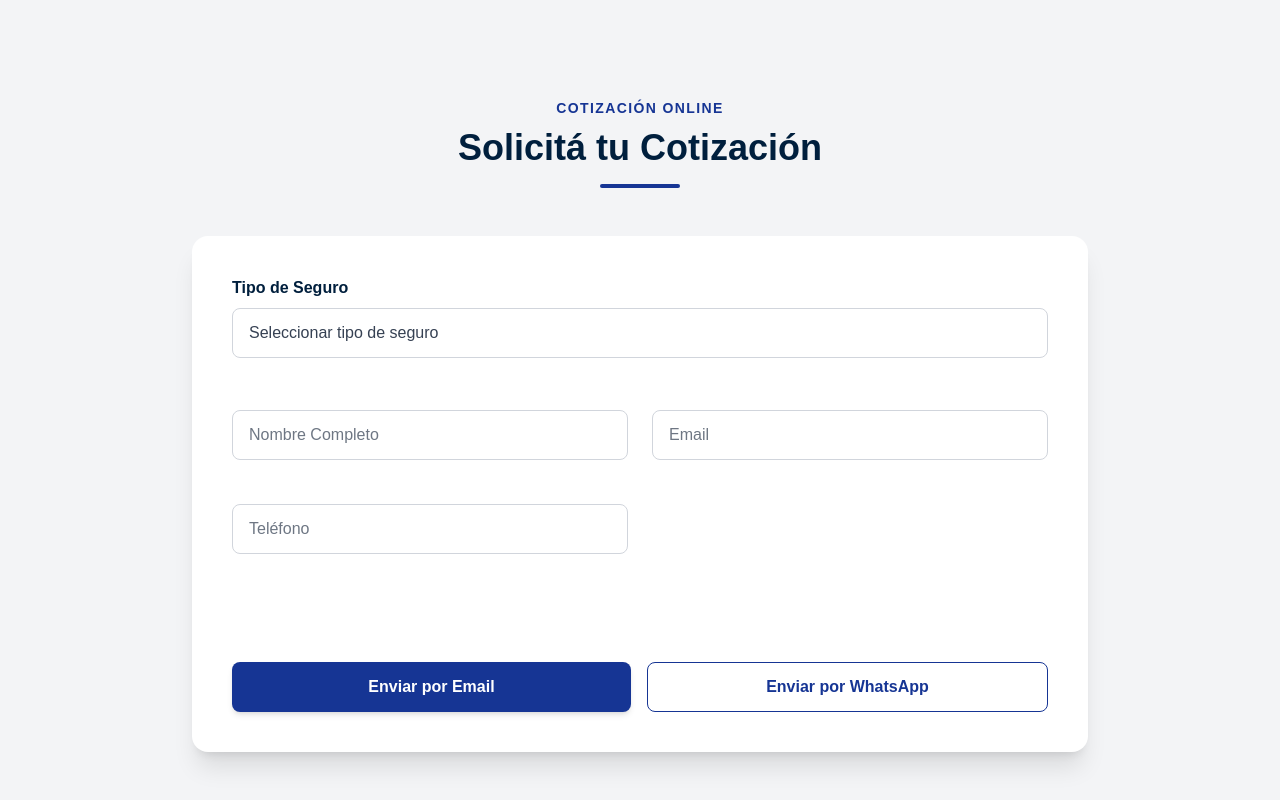
Formulario de Cotización Completo › Validaciones de campos dinámicos según tipo de seguro › Validaciones para Seguro de Vida › No permite enviar si la edad es menor a 18
Select "Vida" in the dropdown named "tipo de seguro" at (640, 333), box [232, 308, 1048, 358]
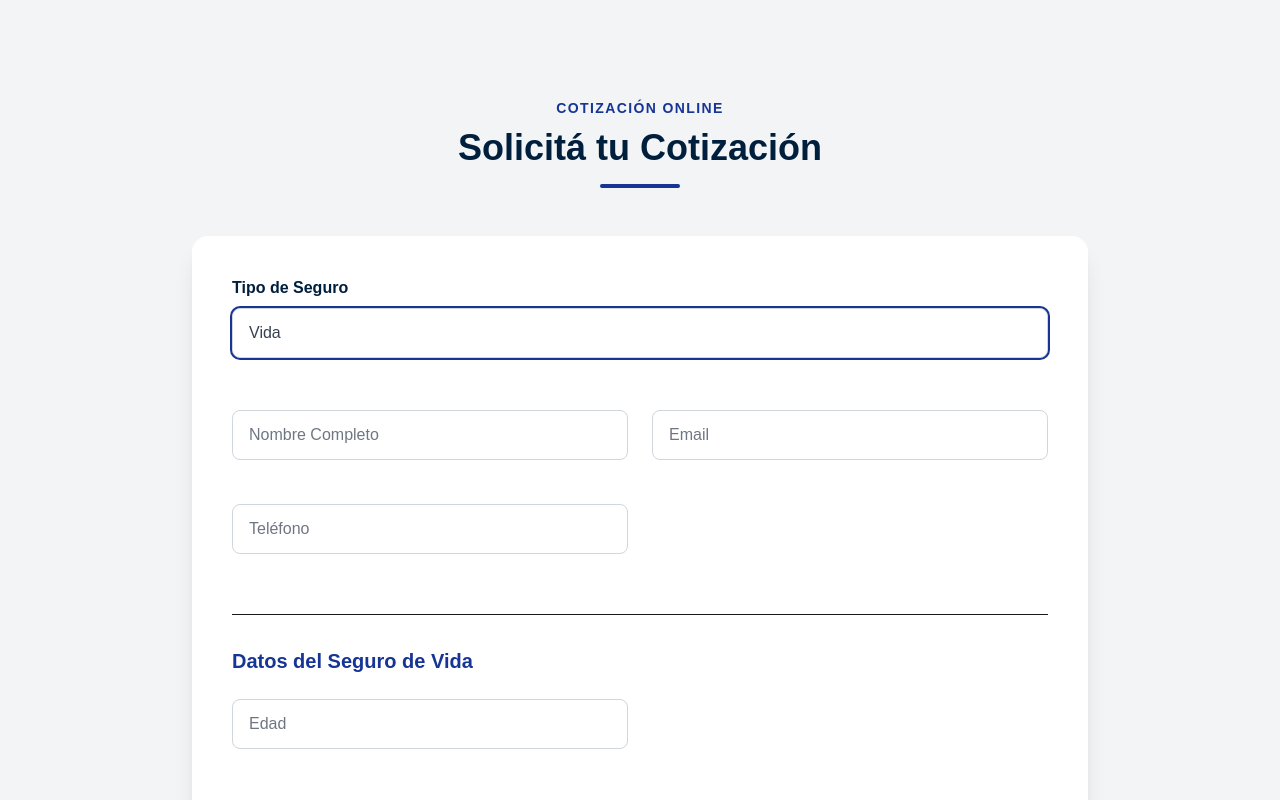
Type "Juan" into the field with placeholder "Nombre Completo" at (430, 435), box [232, 410, 628, 460]
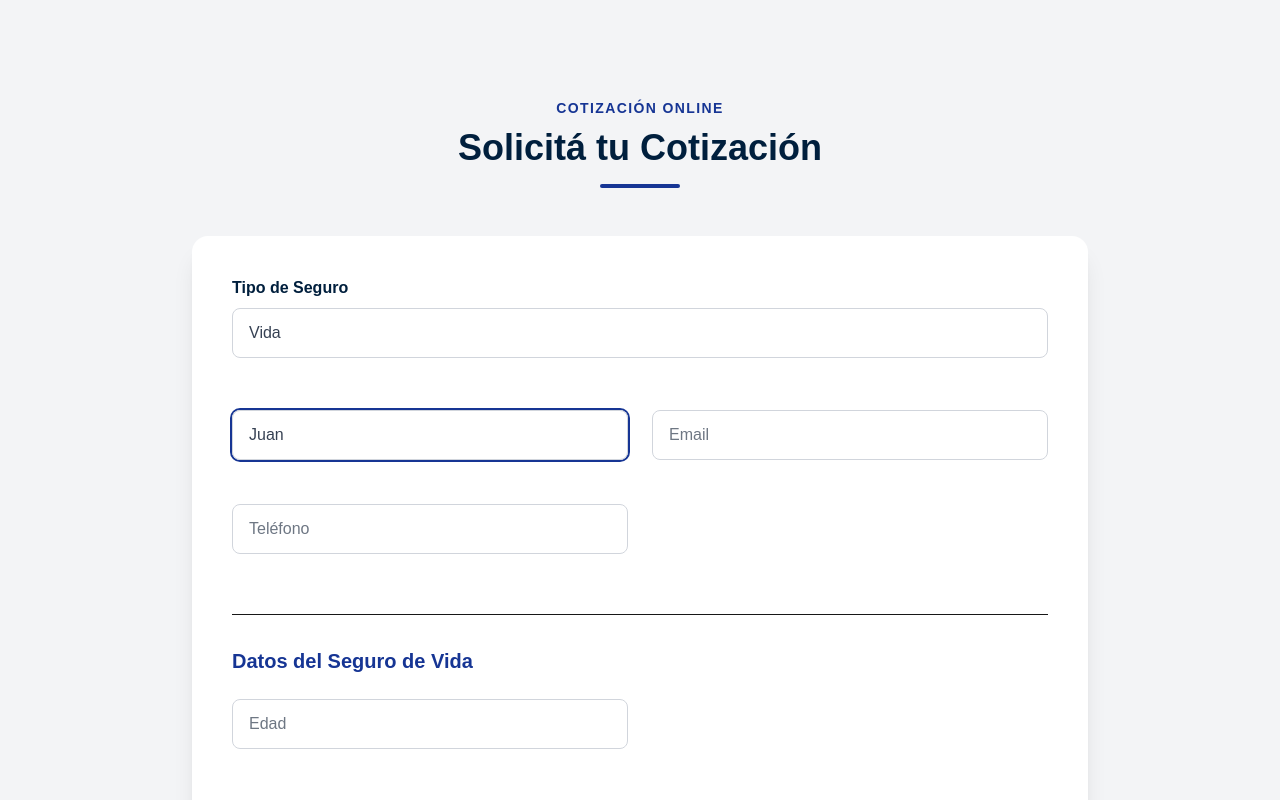
Type "juan@mail.com" into the field with placeholder "Email" at (850, 435), box [652, 410, 1048, 460]
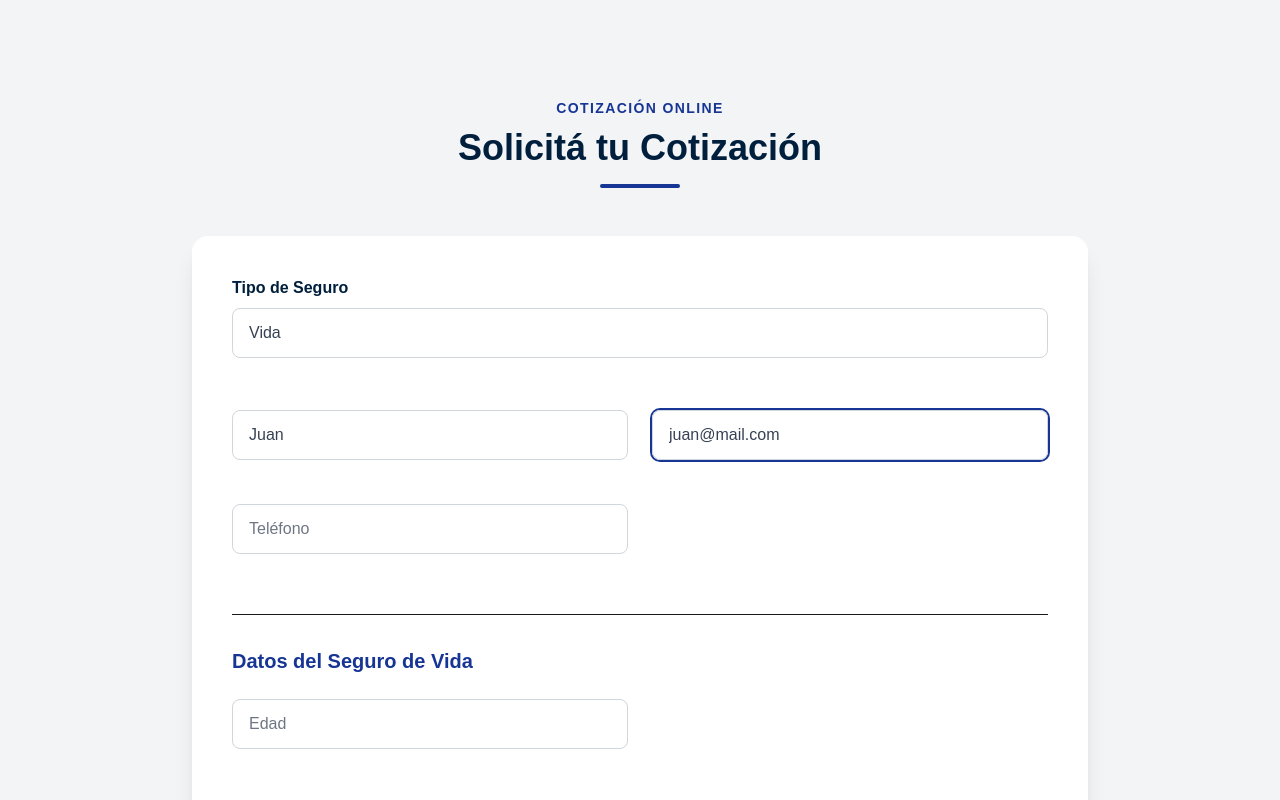
Type "12345678" into the number field with placeholder "Teléfono" at (430, 529), box [232, 504, 628, 554]
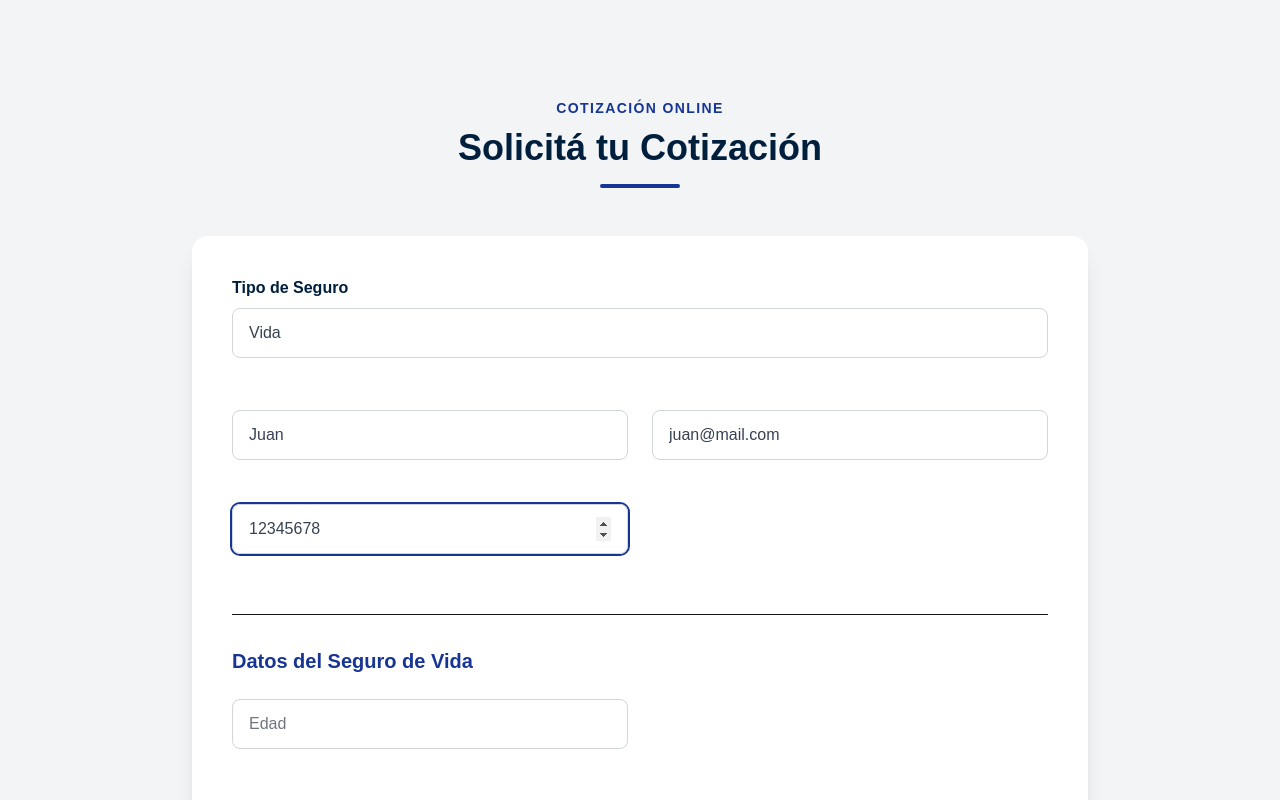
Type "15" into the number field with placeholder "Edad" at (430, 724), box [232, 699, 628, 749]
(page scrolled)
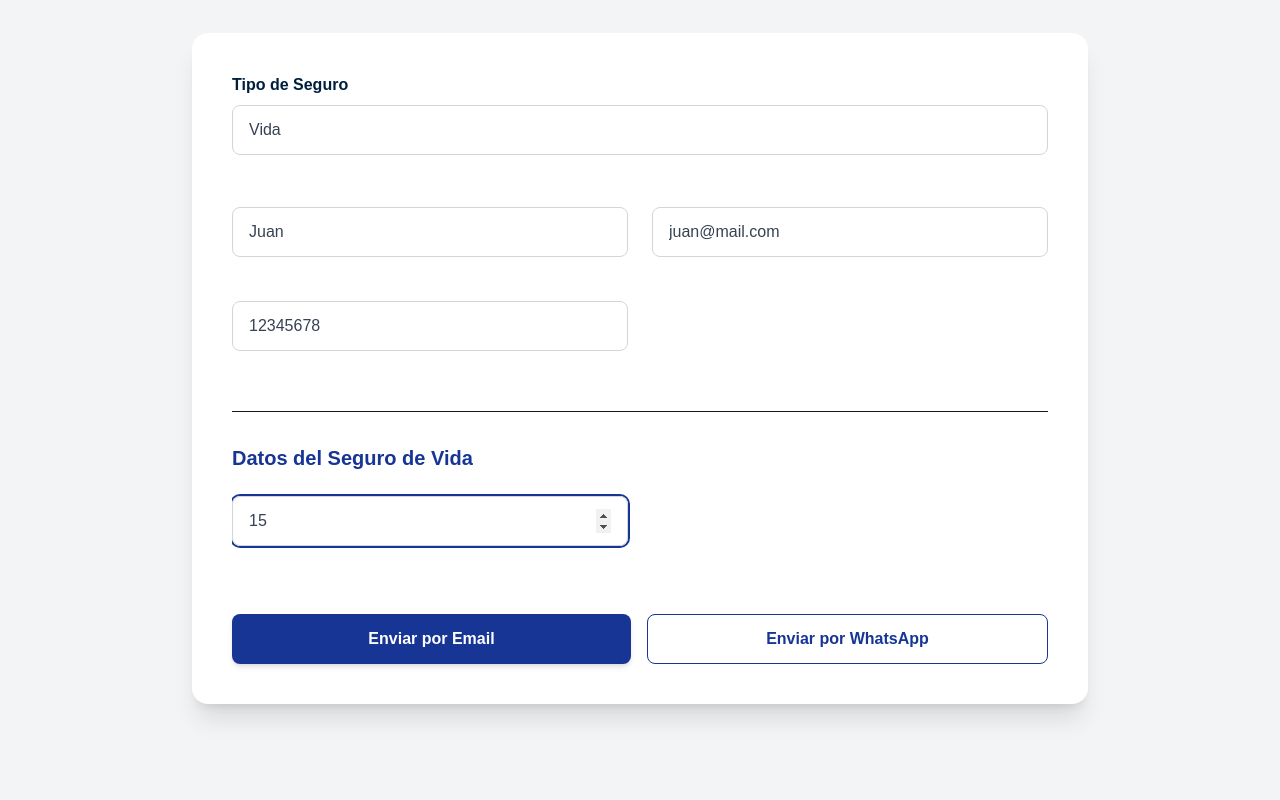
Click the button "Enviar por WhatsApp" at (848, 639), box [647, 614, 1048, 664]
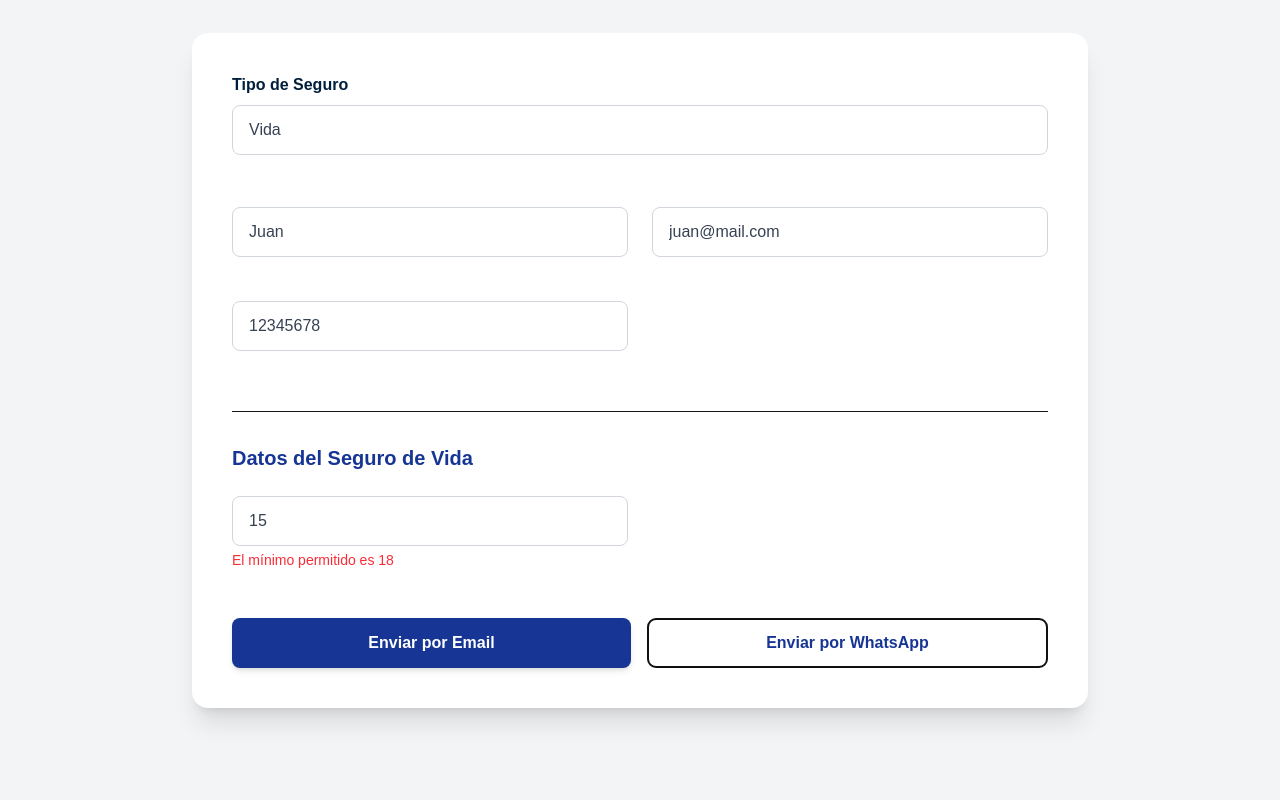
Check: the text "El mínimo permitido es 18" is shown, box [232, 552, 394, 568]
